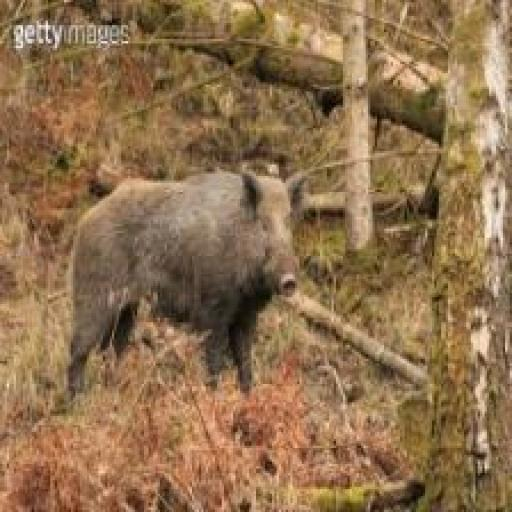Pig: (55, 146, 308, 404)
